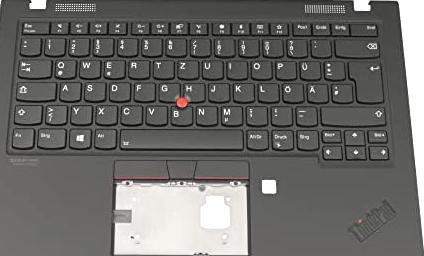0: (261, 39, 283, 57)
1: (44, 37, 65, 56)
2: (67, 37, 89, 56)
3: (92, 37, 113, 56)
4: (116, 37, 138, 56)
5: (140, 37, 162, 57)
6: (165, 38, 186, 57)
7: (189, 38, 211, 57)
8: (213, 38, 235, 57)
9: (237, 37, 259, 57)
a: (59, 81, 81, 101)
accent: (310, 39, 331, 58)
ae: (306, 83, 328, 103)
alt-left: (94, 128, 117, 150)
altgr-right: (246, 128, 269, 151)
b: (170, 105, 192, 126)
c: (120, 104, 142, 125)
caret: (19, 38, 40, 55)
comma: (245, 105, 267, 126)
d: (108, 82, 130, 101)
del: (335, 39, 380, 58)
e: (102, 59, 125, 78)
enter: (347, 60, 383, 104)
f: (133, 82, 155, 101)
g: (158, 82, 179, 102)
h: (183, 82, 205, 102)
hash: (331, 83, 352, 103)
i: (226, 60, 247, 79)
j: (207, 82, 229, 102)
k: (232, 82, 254, 102)
keyboard: (6, 18, 396, 169)
l: (257, 82, 279, 102)
less: (44, 104, 67, 125)
m: (220, 105, 243, 126)
minus: (295, 105, 318, 126)
n: (195, 105, 217, 126)
o: (250, 60, 272, 79)
oe: (282, 82, 304, 103)
p: (274, 60, 296, 80)
plus: (323, 60, 345, 80)
point: (270, 106, 292, 126)
q: (53, 59, 75, 78)
r: (127, 59, 150, 79)
s: (83, 81, 105, 101)
shift-left: (13, 105, 42, 125)
shift-lock: (15, 82, 57, 103)
shift-right: (320, 106, 386, 126)
space: (119, 128, 244, 150)
ss: (286, 39, 307, 57)
strg-left: (36, 128, 68, 150)
strg-right: (296, 129, 320, 151)
t: (152, 59, 174, 79)
tab: (17, 59, 51, 78)
u: (201, 59, 223, 79)
ue: (299, 60, 321, 80)
v: (145, 104, 167, 125)
w: (78, 59, 100, 78)
x: (94, 104, 117, 125)
y: (70, 104, 92, 125)
z: (176, 59, 198, 79)
